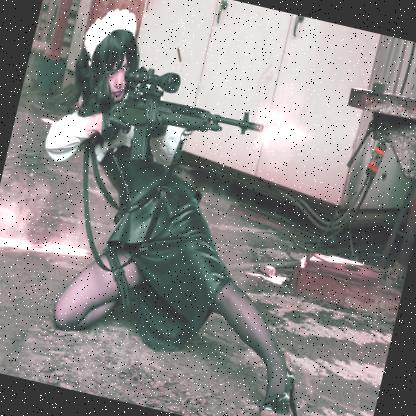rifle: (80, 63, 275, 184)
